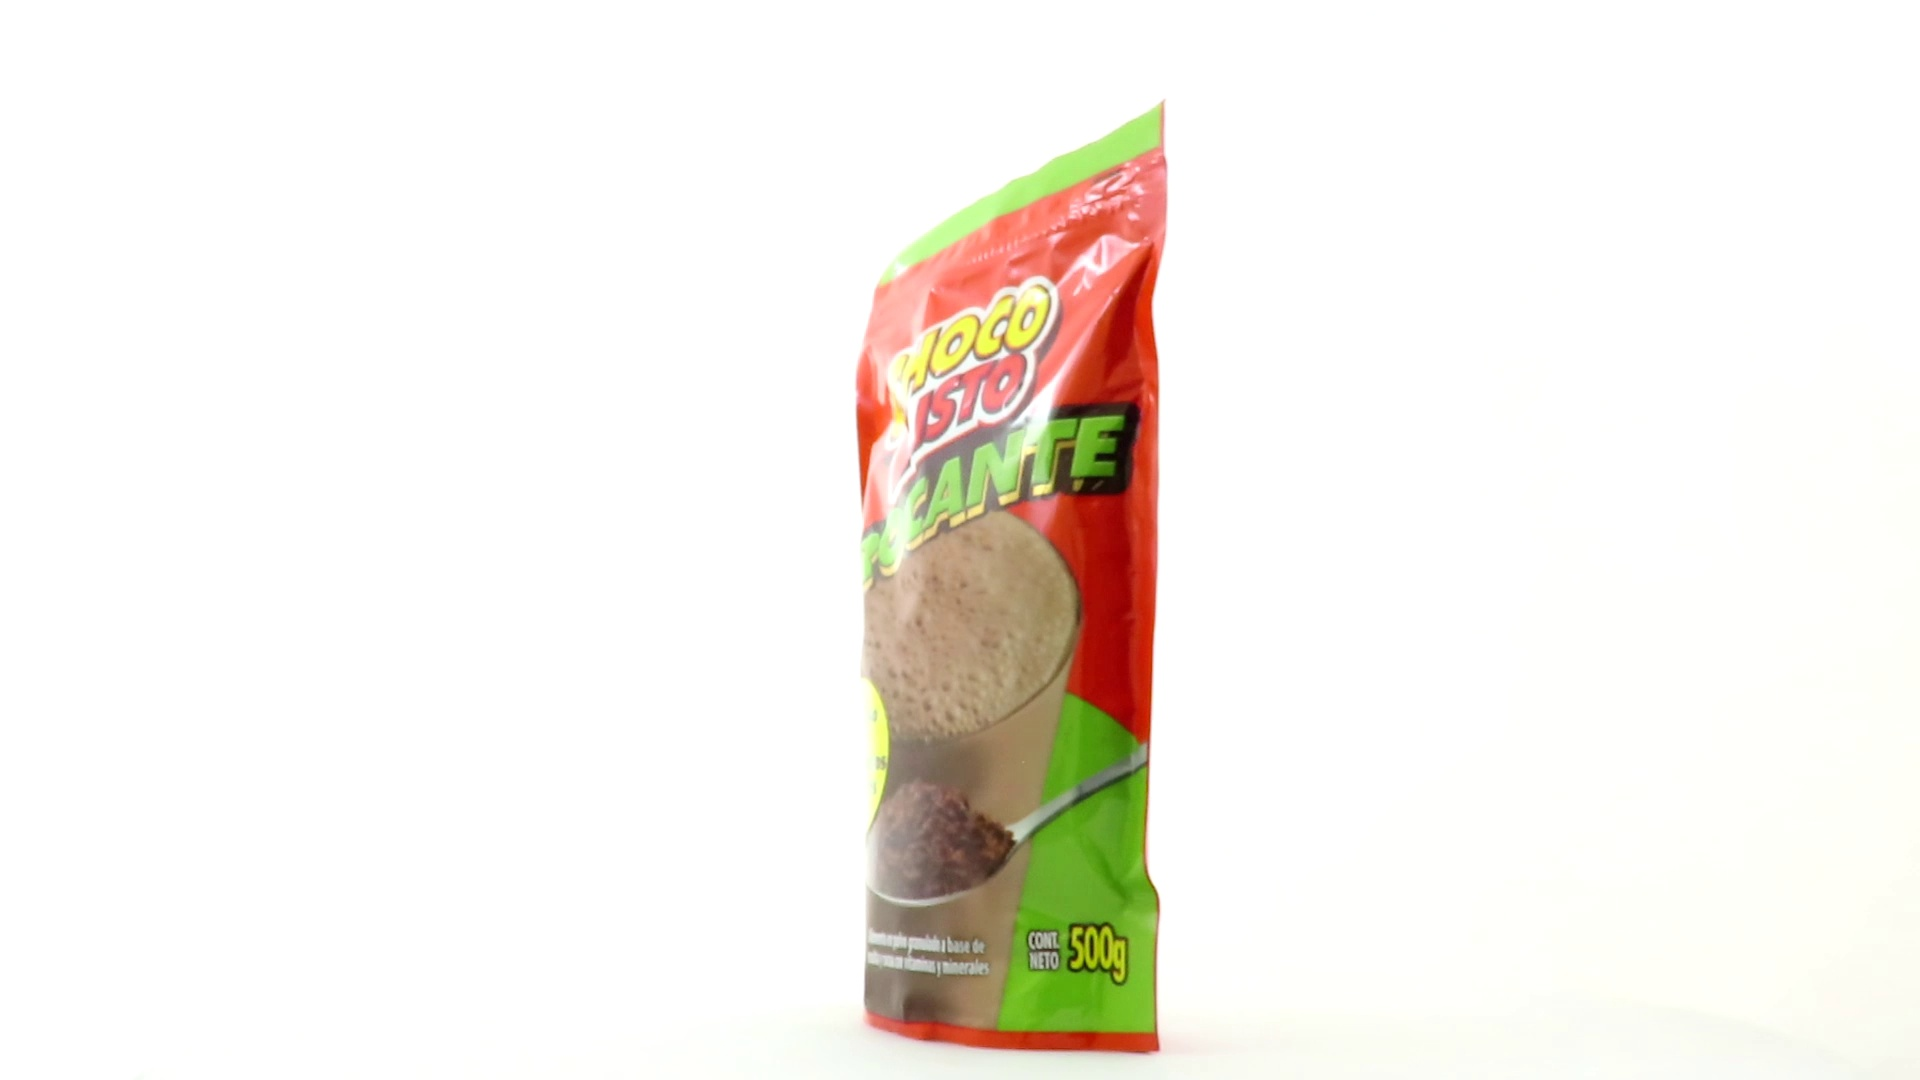COL0170102DYP50000: (851, 94, 1174, 1062)
